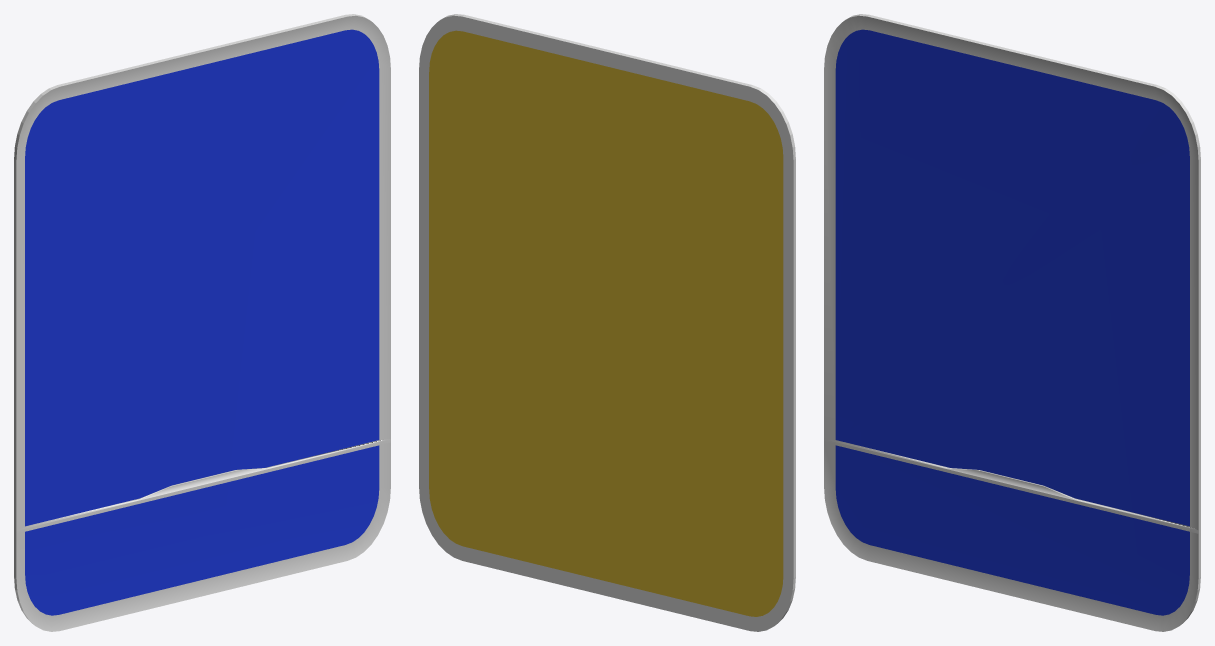
Rendered from Card2.fbx.
3 views of the same model, side by side, from view 1: azimuth 30°, elevation 25°; view 2: azimuth 150°, elevation 25°; view 3: azimuth 330°, elevation 25° (orthographic).
Visible parts, largest first — view 1: Cube; view 2: Cube; view 3: Cube.
Part boxes in pixels (x1,y1,x2,y2): Cube: (14, 14, 390, 631); Cube: (419, 14, 795, 631); Cube: (824, 14, 1200, 631).
Bounding box in the file's own units: 360 × 500 × 4.88.
